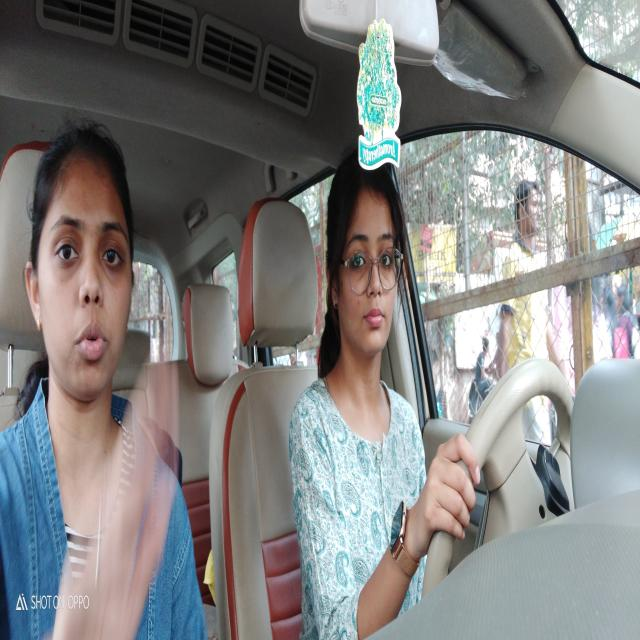person: (23, 109, 139, 416), (322, 133, 404, 396)
